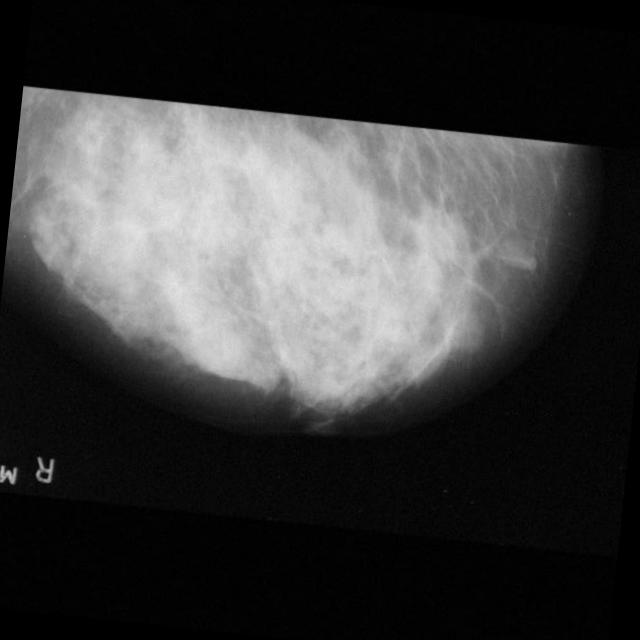CALC: (132, 144, 152, 162)
